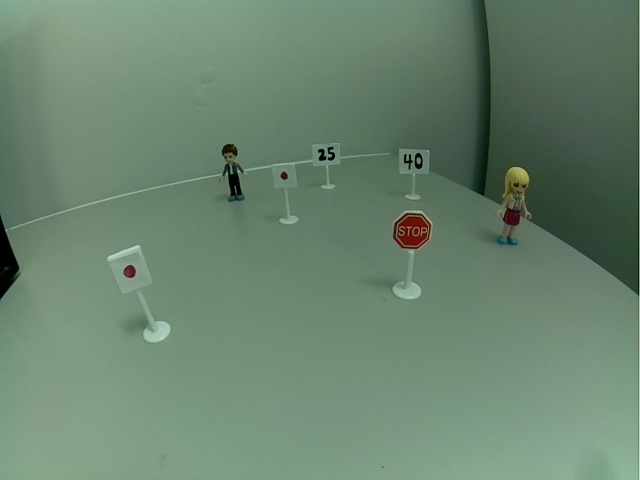people: (495, 164, 533, 249), (215, 141, 253, 206)
red light: (105, 244, 154, 297), (271, 161, 300, 191)
speed 25: (313, 140, 342, 168)
speed 40: (397, 146, 432, 176)
stop: (392, 207, 434, 253)
